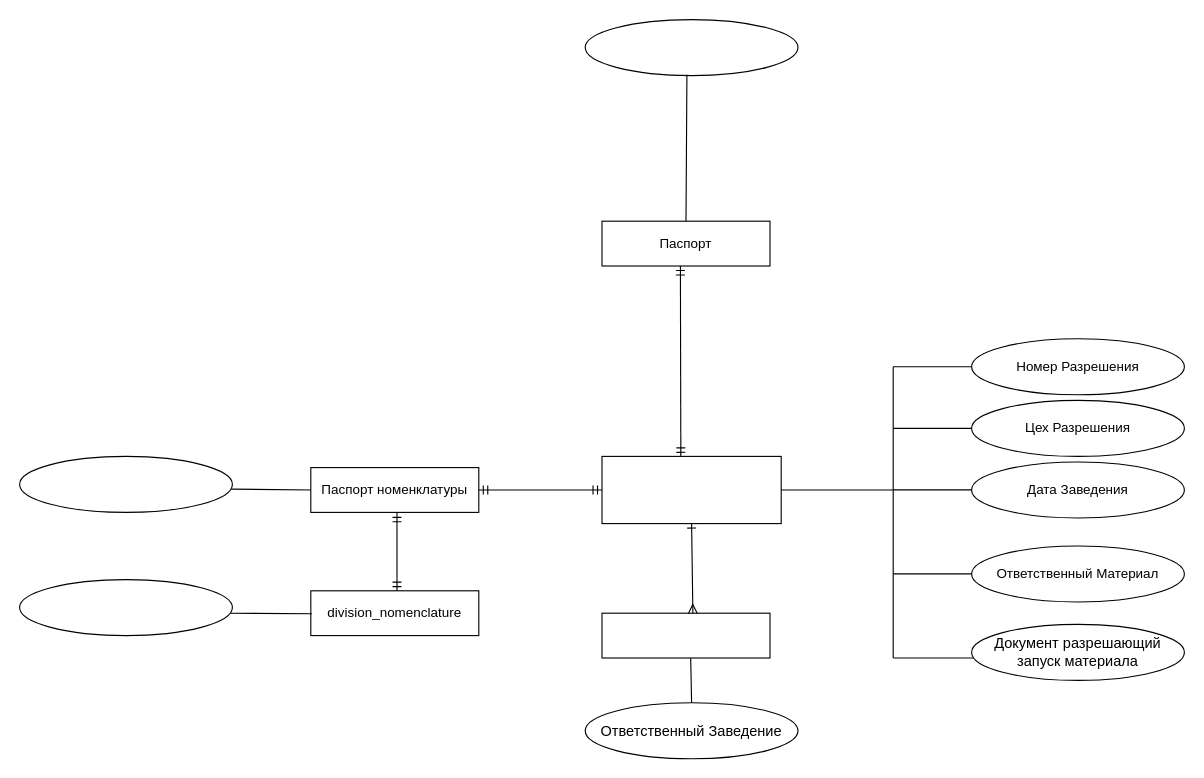
This 1204x778 diagram has some shape labels left out. The centre of each missing label's shape, as x and y in pixels:
Журнал Разрешений: (x=691, y=489)
ОбозначениеНовое: (x=125, y=483)
Пользователь: (x=685, y=635)
Тип размер: (x=125, y=607)
Удален: (x=691, y=47)
